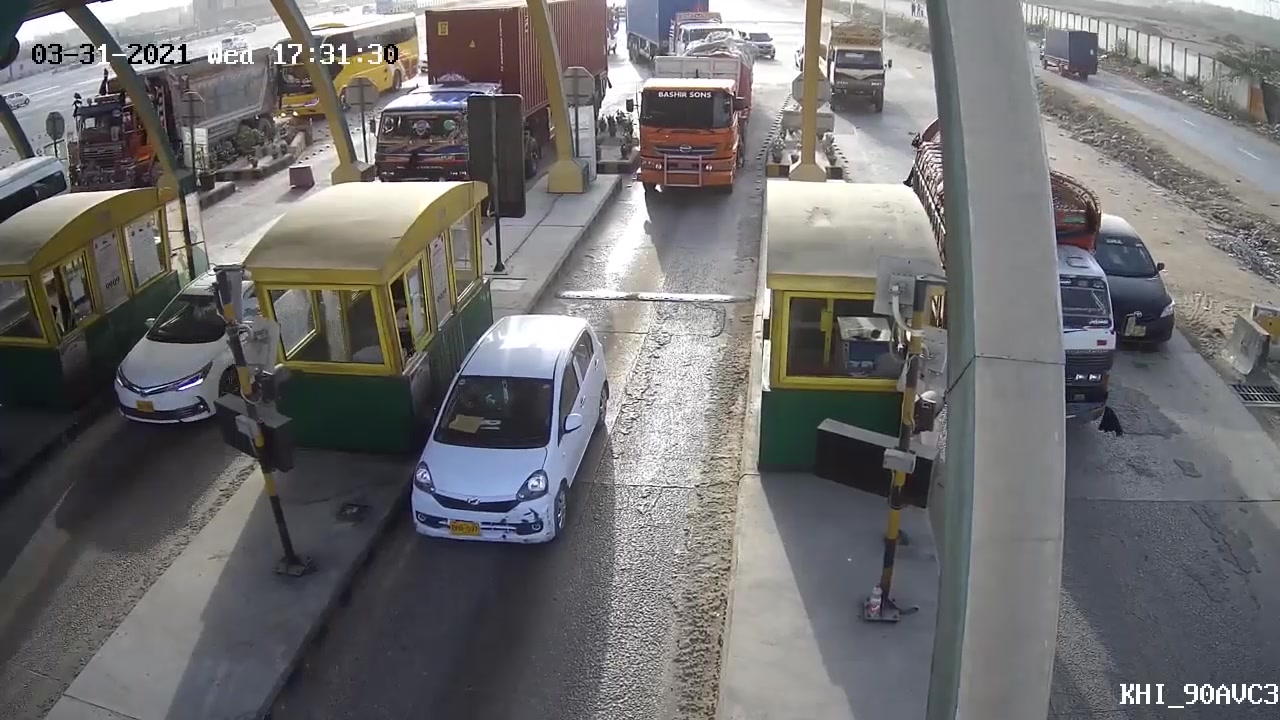F5: (416, 313, 609, 557)
